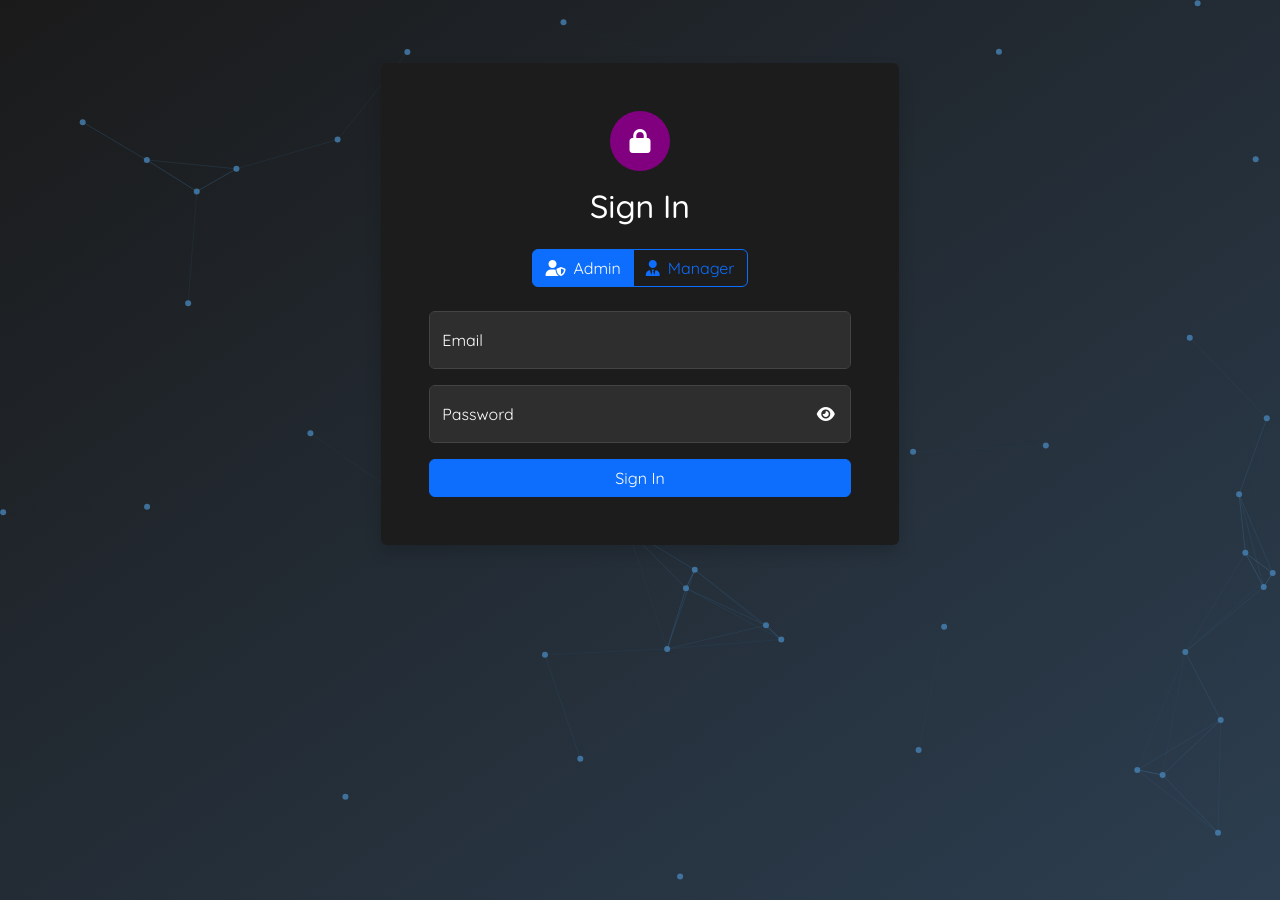
Test: SignInForm integration tests › shows error on invalid login credentials
Type "test@example.com" into the field with test id "email-input". click: (640, 340)
box: [429, 311, 851, 369]
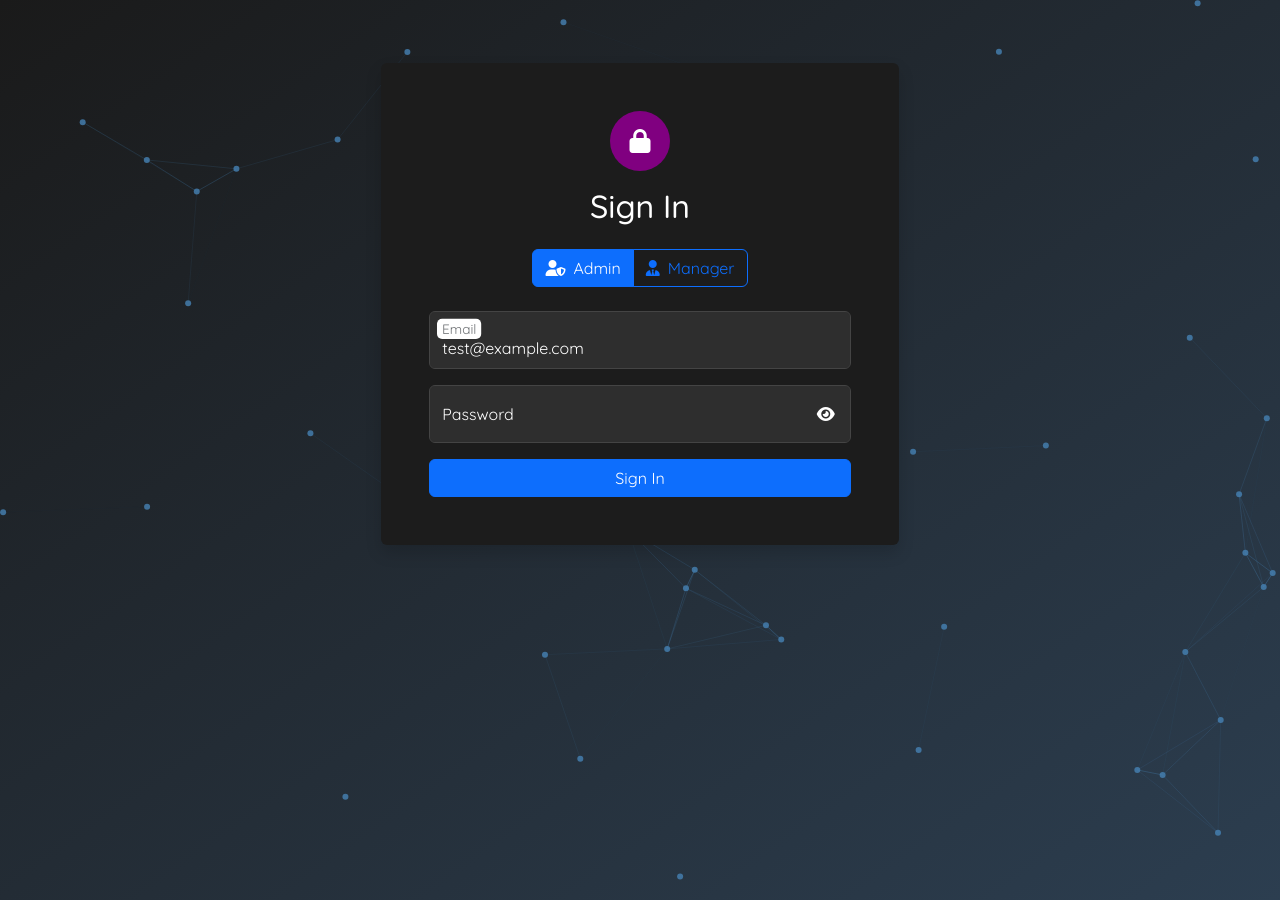
Type "wrongpassword" into the password field with test id "password-input". click: (640, 414)
box: [429, 385, 851, 443]
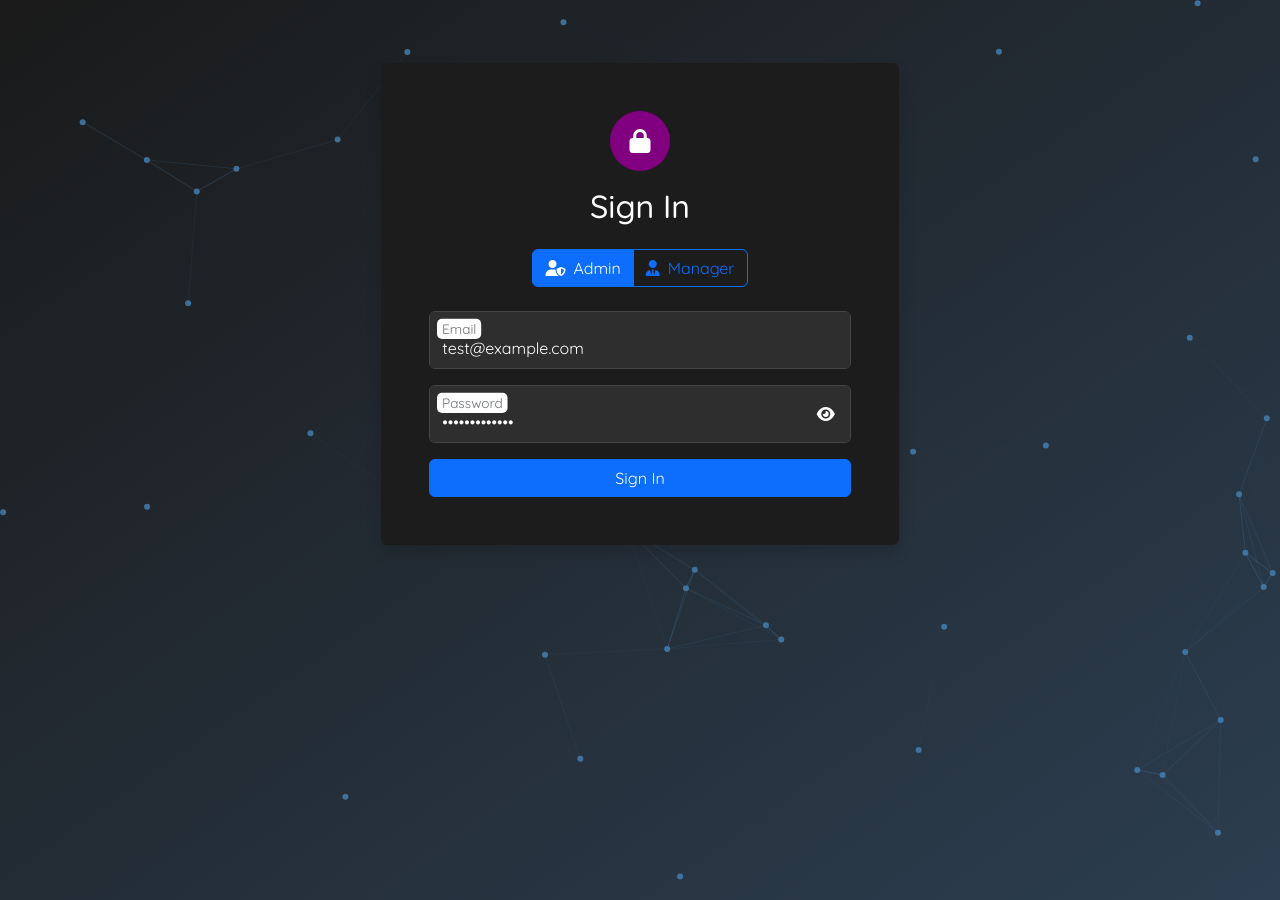
Click the button with test id "sign-in-button". click: click(640, 478)
box: [429, 459, 851, 497]
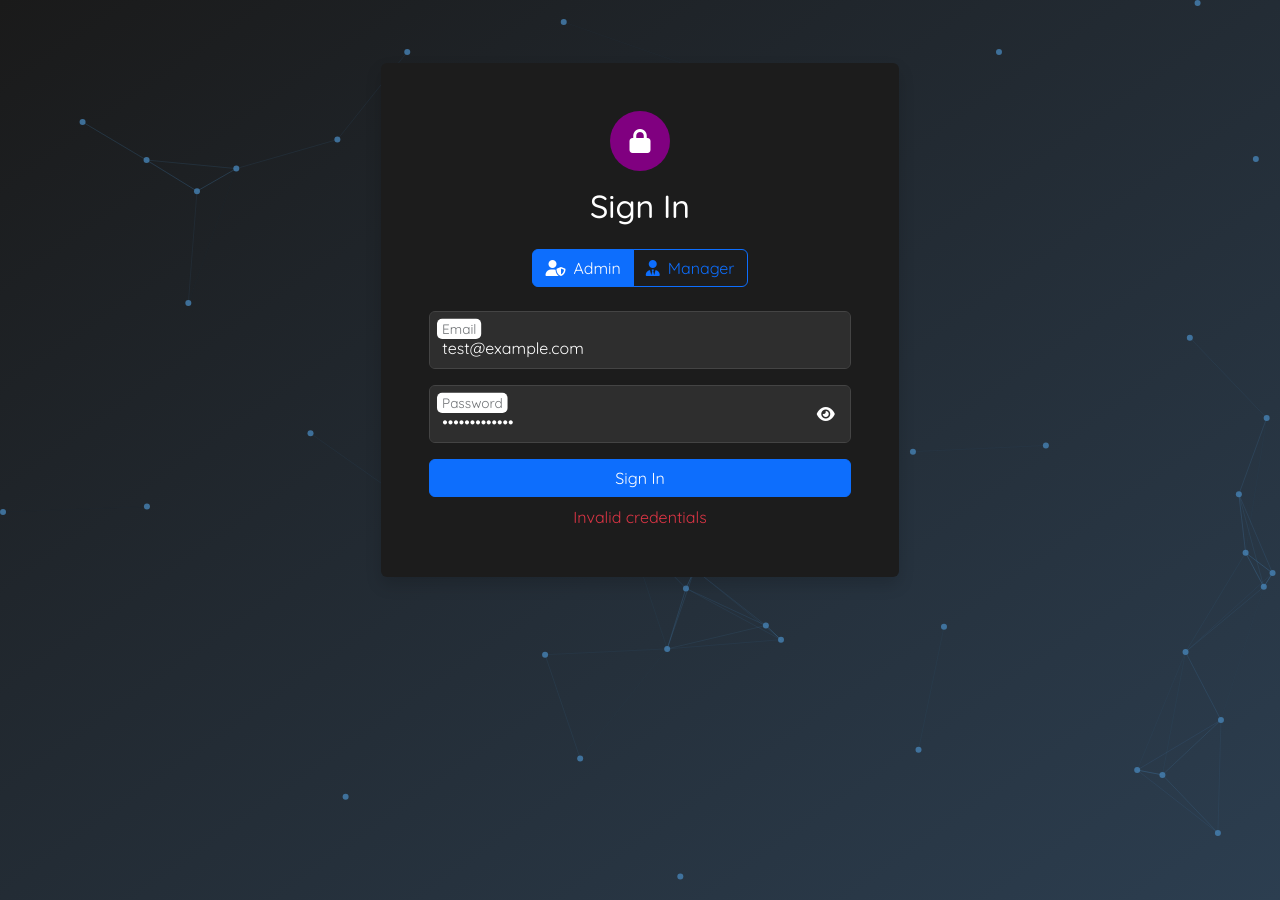
Expected: the text "Invalid credentials" is shown, [573, 507, 707, 527]
Expected: the text with test id "server-error" reads "Invalid credentials", [573, 507, 707, 527]
